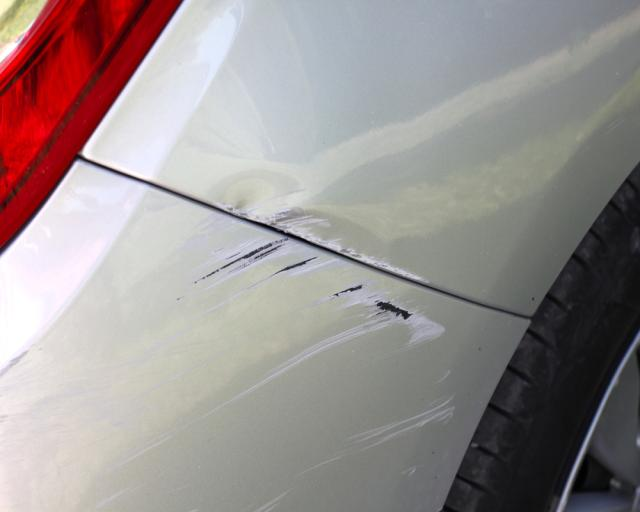dent: (216, 178, 345, 249)
scratch: (0, 215, 457, 512), (342, 248, 435, 289)
